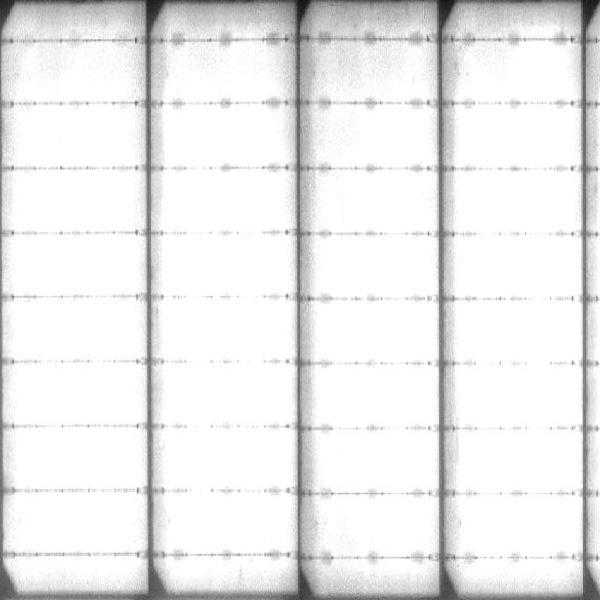hot_spot: (12, 495, 144, 549), (13, 110, 140, 165), (16, 430, 145, 482), (14, 301, 142, 353), (164, 500, 289, 553), (15, 178, 142, 230), (13, 371, 142, 422), (168, 300, 286, 355), (165, 241, 294, 291), (166, 434, 292, 484), (167, 372, 291, 422), (319, 304, 431, 358), (322, 500, 428, 557), (458, 242, 574, 294), (459, 372, 575, 424), (461, 109, 570, 164), (15, 242, 133, 292), (461, 306, 573, 358), (319, 435, 435, 485), (466, 435, 573, 489), (464, 501, 577, 552), (173, 177, 287, 227), (319, 177, 433, 227), (321, 239, 438, 287), (169, 111, 282, 160), (462, 180, 574, 228), (321, 375, 432, 422), (343, 113, 431, 159), (516, 52, 565, 100)
